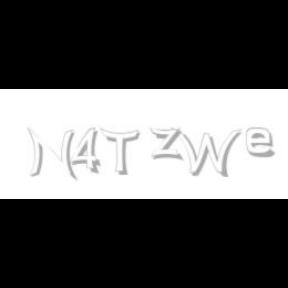4: (70, 128, 101, 174)
N: (26, 128, 76, 180)
T: (100, 128, 140, 176)
W: (170, 128, 242, 178)
e: (246, 128, 280, 158)
z: (149, 128, 185, 160)
